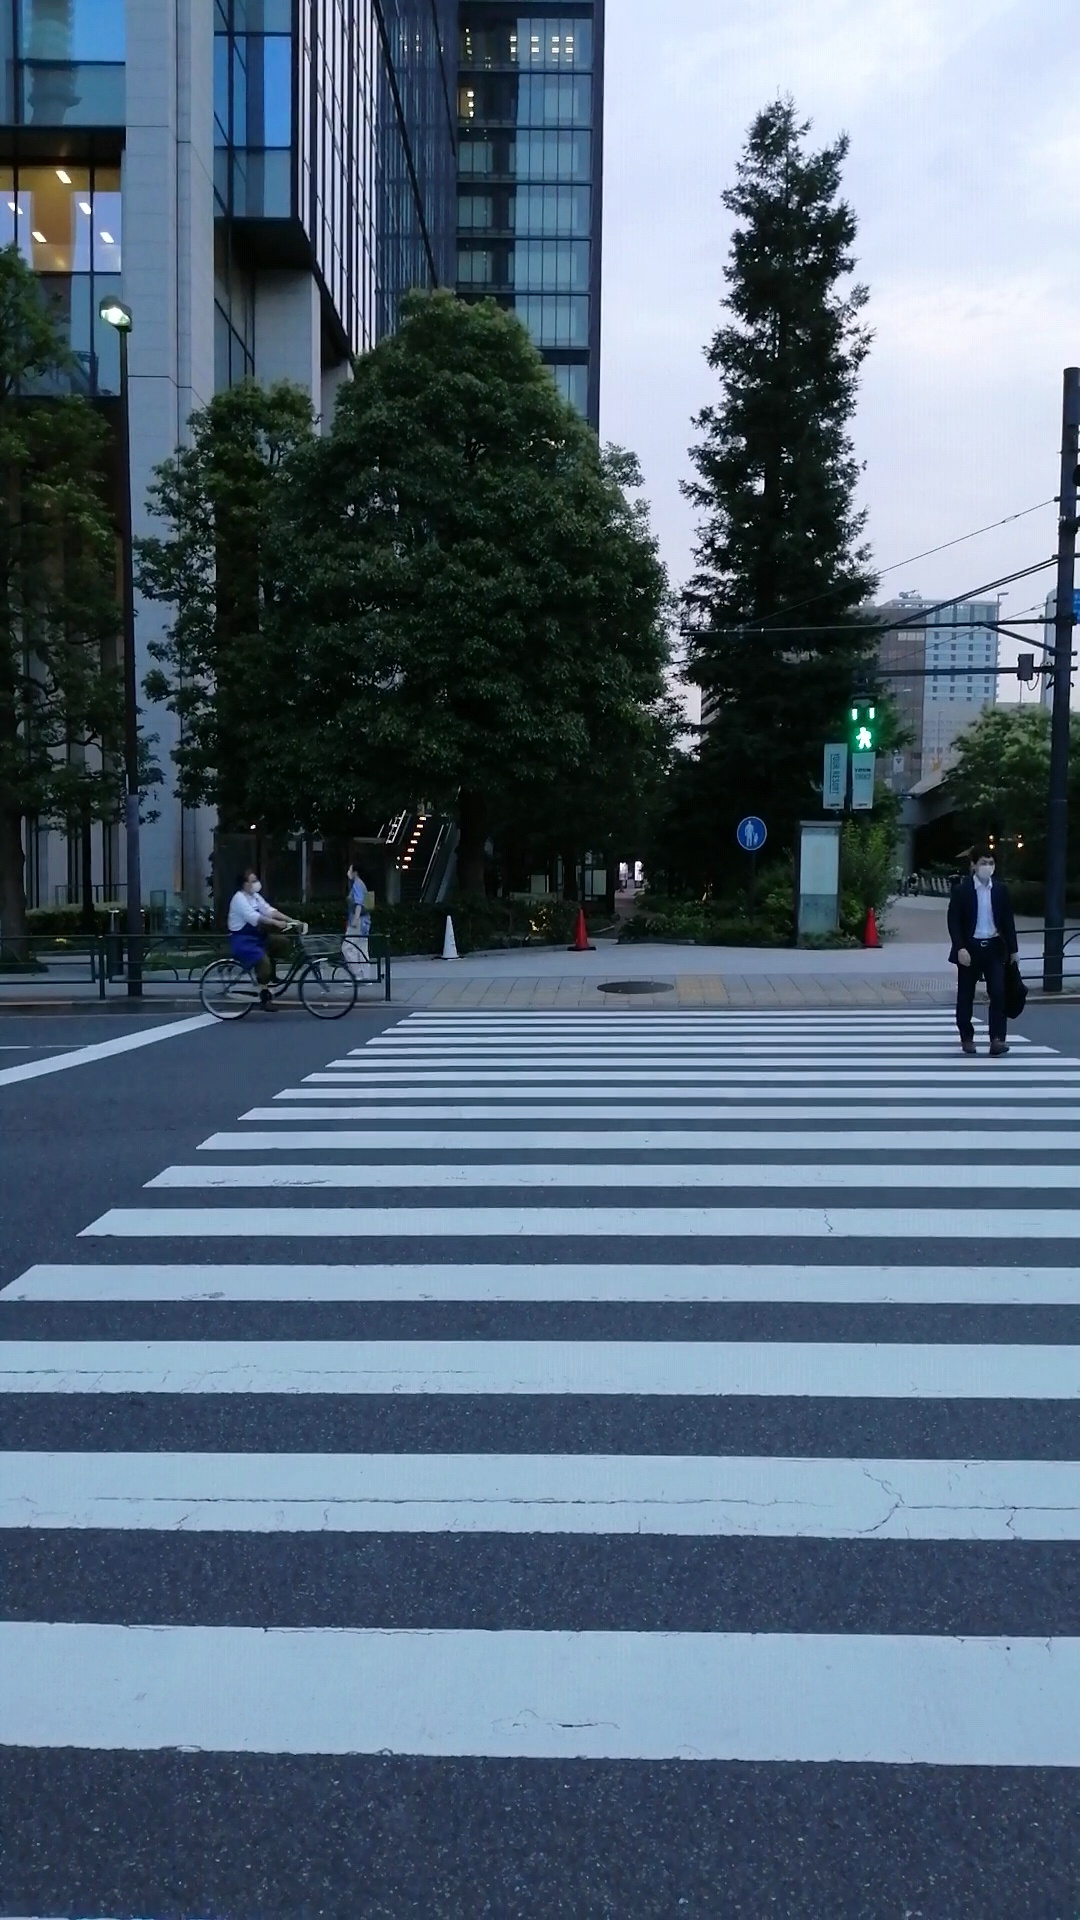green: (847, 692, 880, 754)
